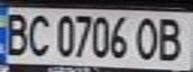0: (51, 11, 75, 58), (90, 12, 112, 60)
6: (109, 12, 133, 61)
7: (72, 11, 93, 58)
B: (154, 15, 190, 62), (0, 9, 30, 56)
C: (24, 11, 54, 57)
O: (133, 14, 163, 62)
